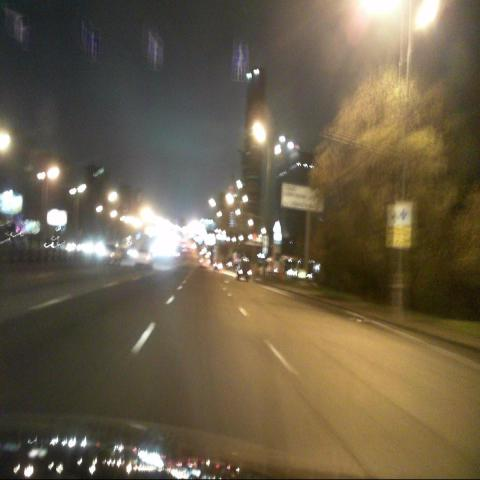5_15_2: (234, 39, 248, 67), (77, 20, 92, 45), (14, 15, 28, 39)
